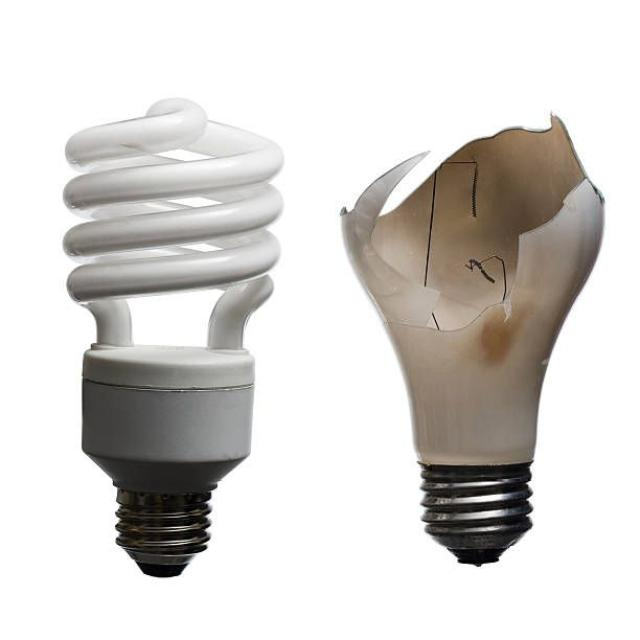electronic: (338, 110, 605, 567), (59, 95, 284, 577)
